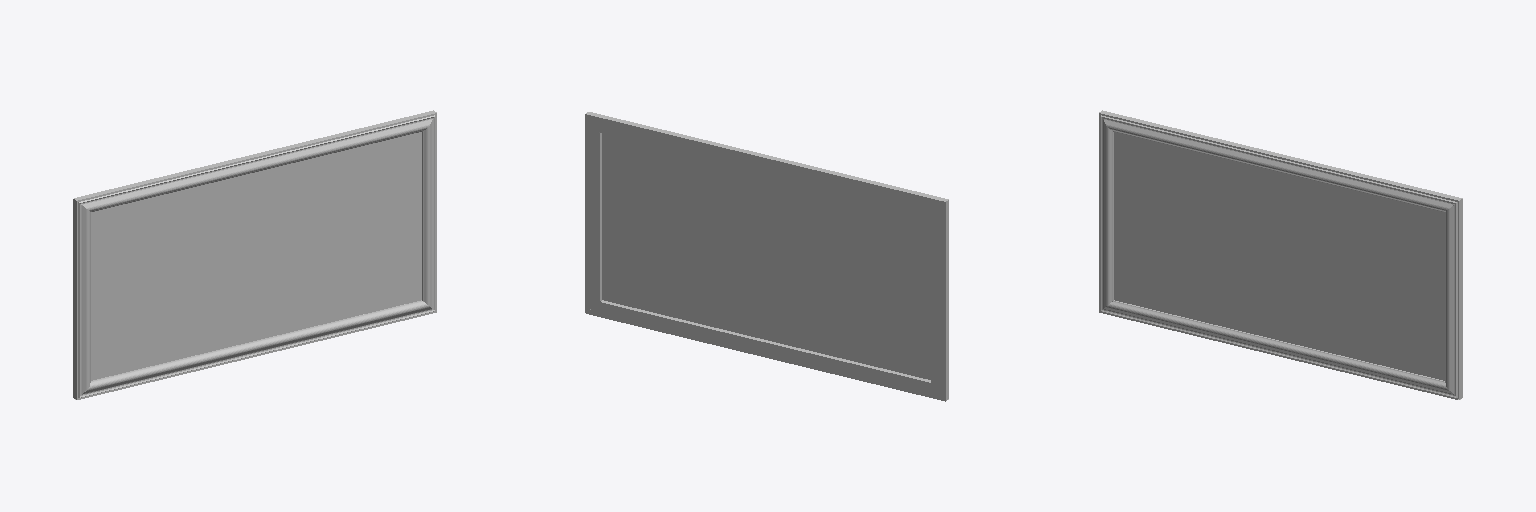
Rendered from CR_noticeboard.obj.
The picture shows the model from 3 angles: view 1: azimuth 30°, elevation 25°; view 2: azimuth 150°, elevation 25°; view 3: azimuth 330°, elevation 25°; orthographic projection.
Parts seen in each view (by area): view 1: 01__0; view 2: 01__0; view 3: 01__0.
Part boxes in pixels (bbox=[...]): 01__0: bbox=[73, 110, 436, 399]; 01__0: bbox=[585, 112, 948, 401]; 01__0: bbox=[1099, 110, 1462, 399].
Bounding box in the file's own units: 276 × 146 × 6.7.